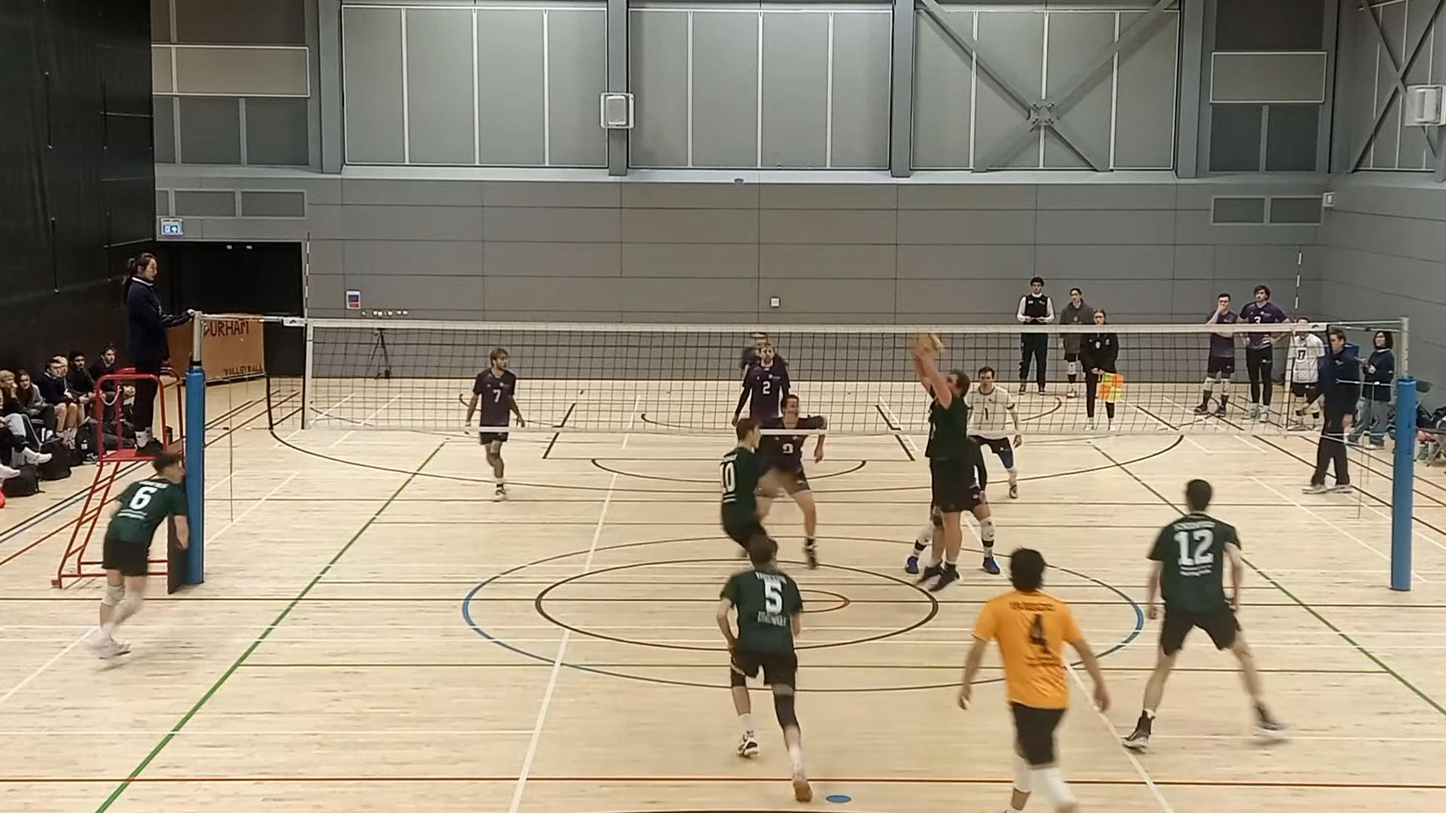Player: (1123, 480, 1287, 750), (959, 549, 1109, 812), (716, 535, 812, 802), (90, 452, 188, 658), (465, 348, 525, 500), (759, 434, 817, 568), (966, 367, 1021, 498), (720, 418, 767, 555), (734, 342, 789, 421)
Set: (898, 329, 986, 577)
ball: (910, 329, 944, 356)
